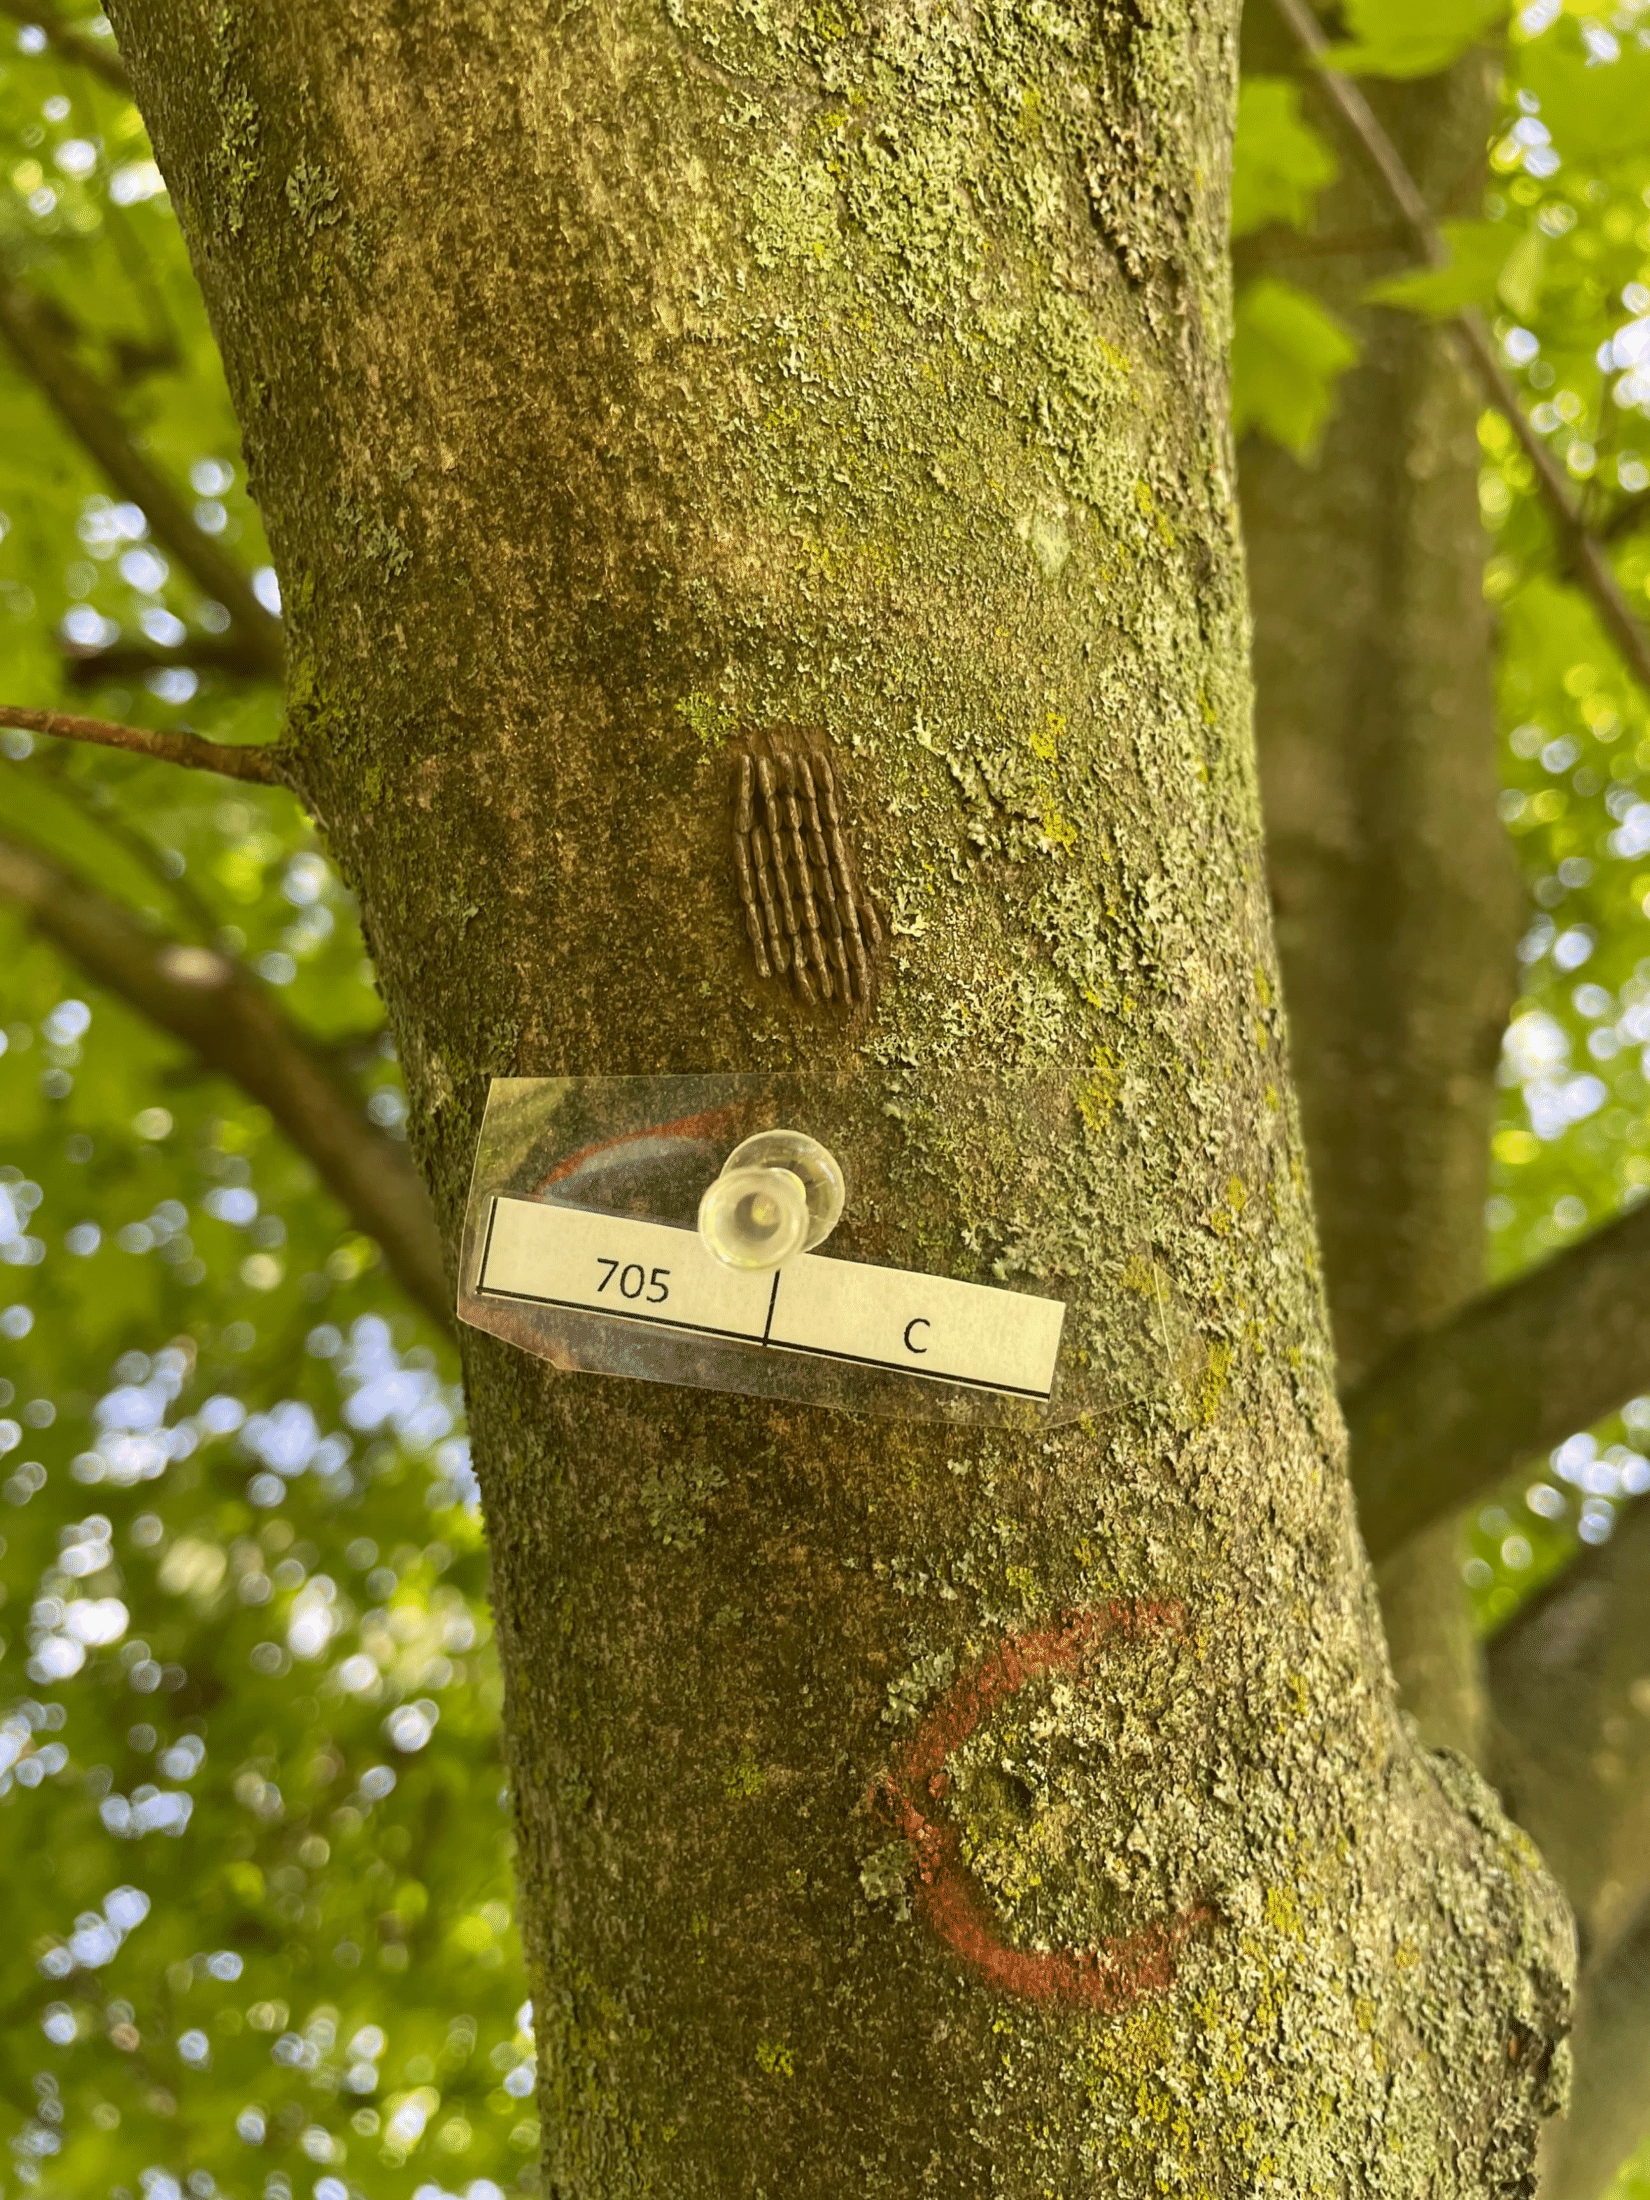egg masses: (712, 743, 884, 1019)
